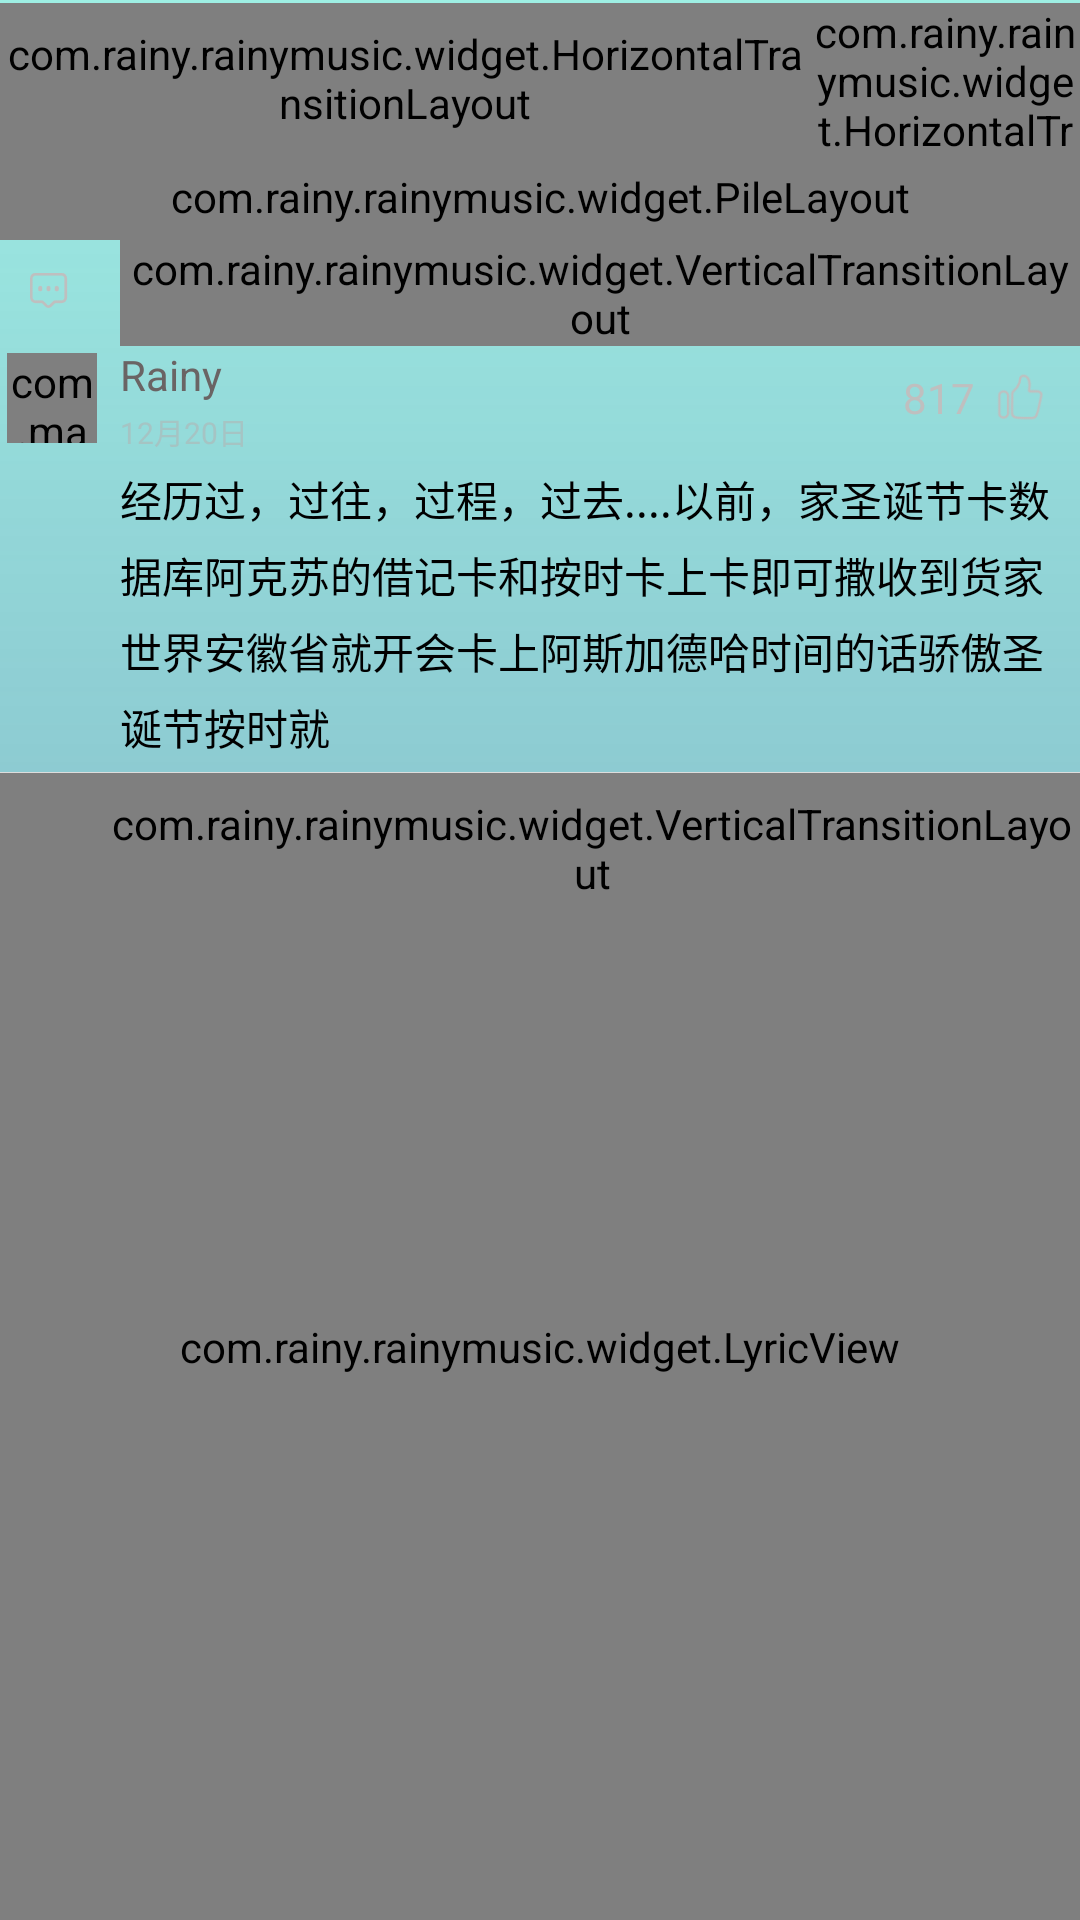

Locate icon controls on the screen. Image size 1080w x 1920h, boxes as box(x1, y1, x2, y2).
comment: box(30, 273, 67, 308)
thumb: box(998, 375, 1042, 419)
